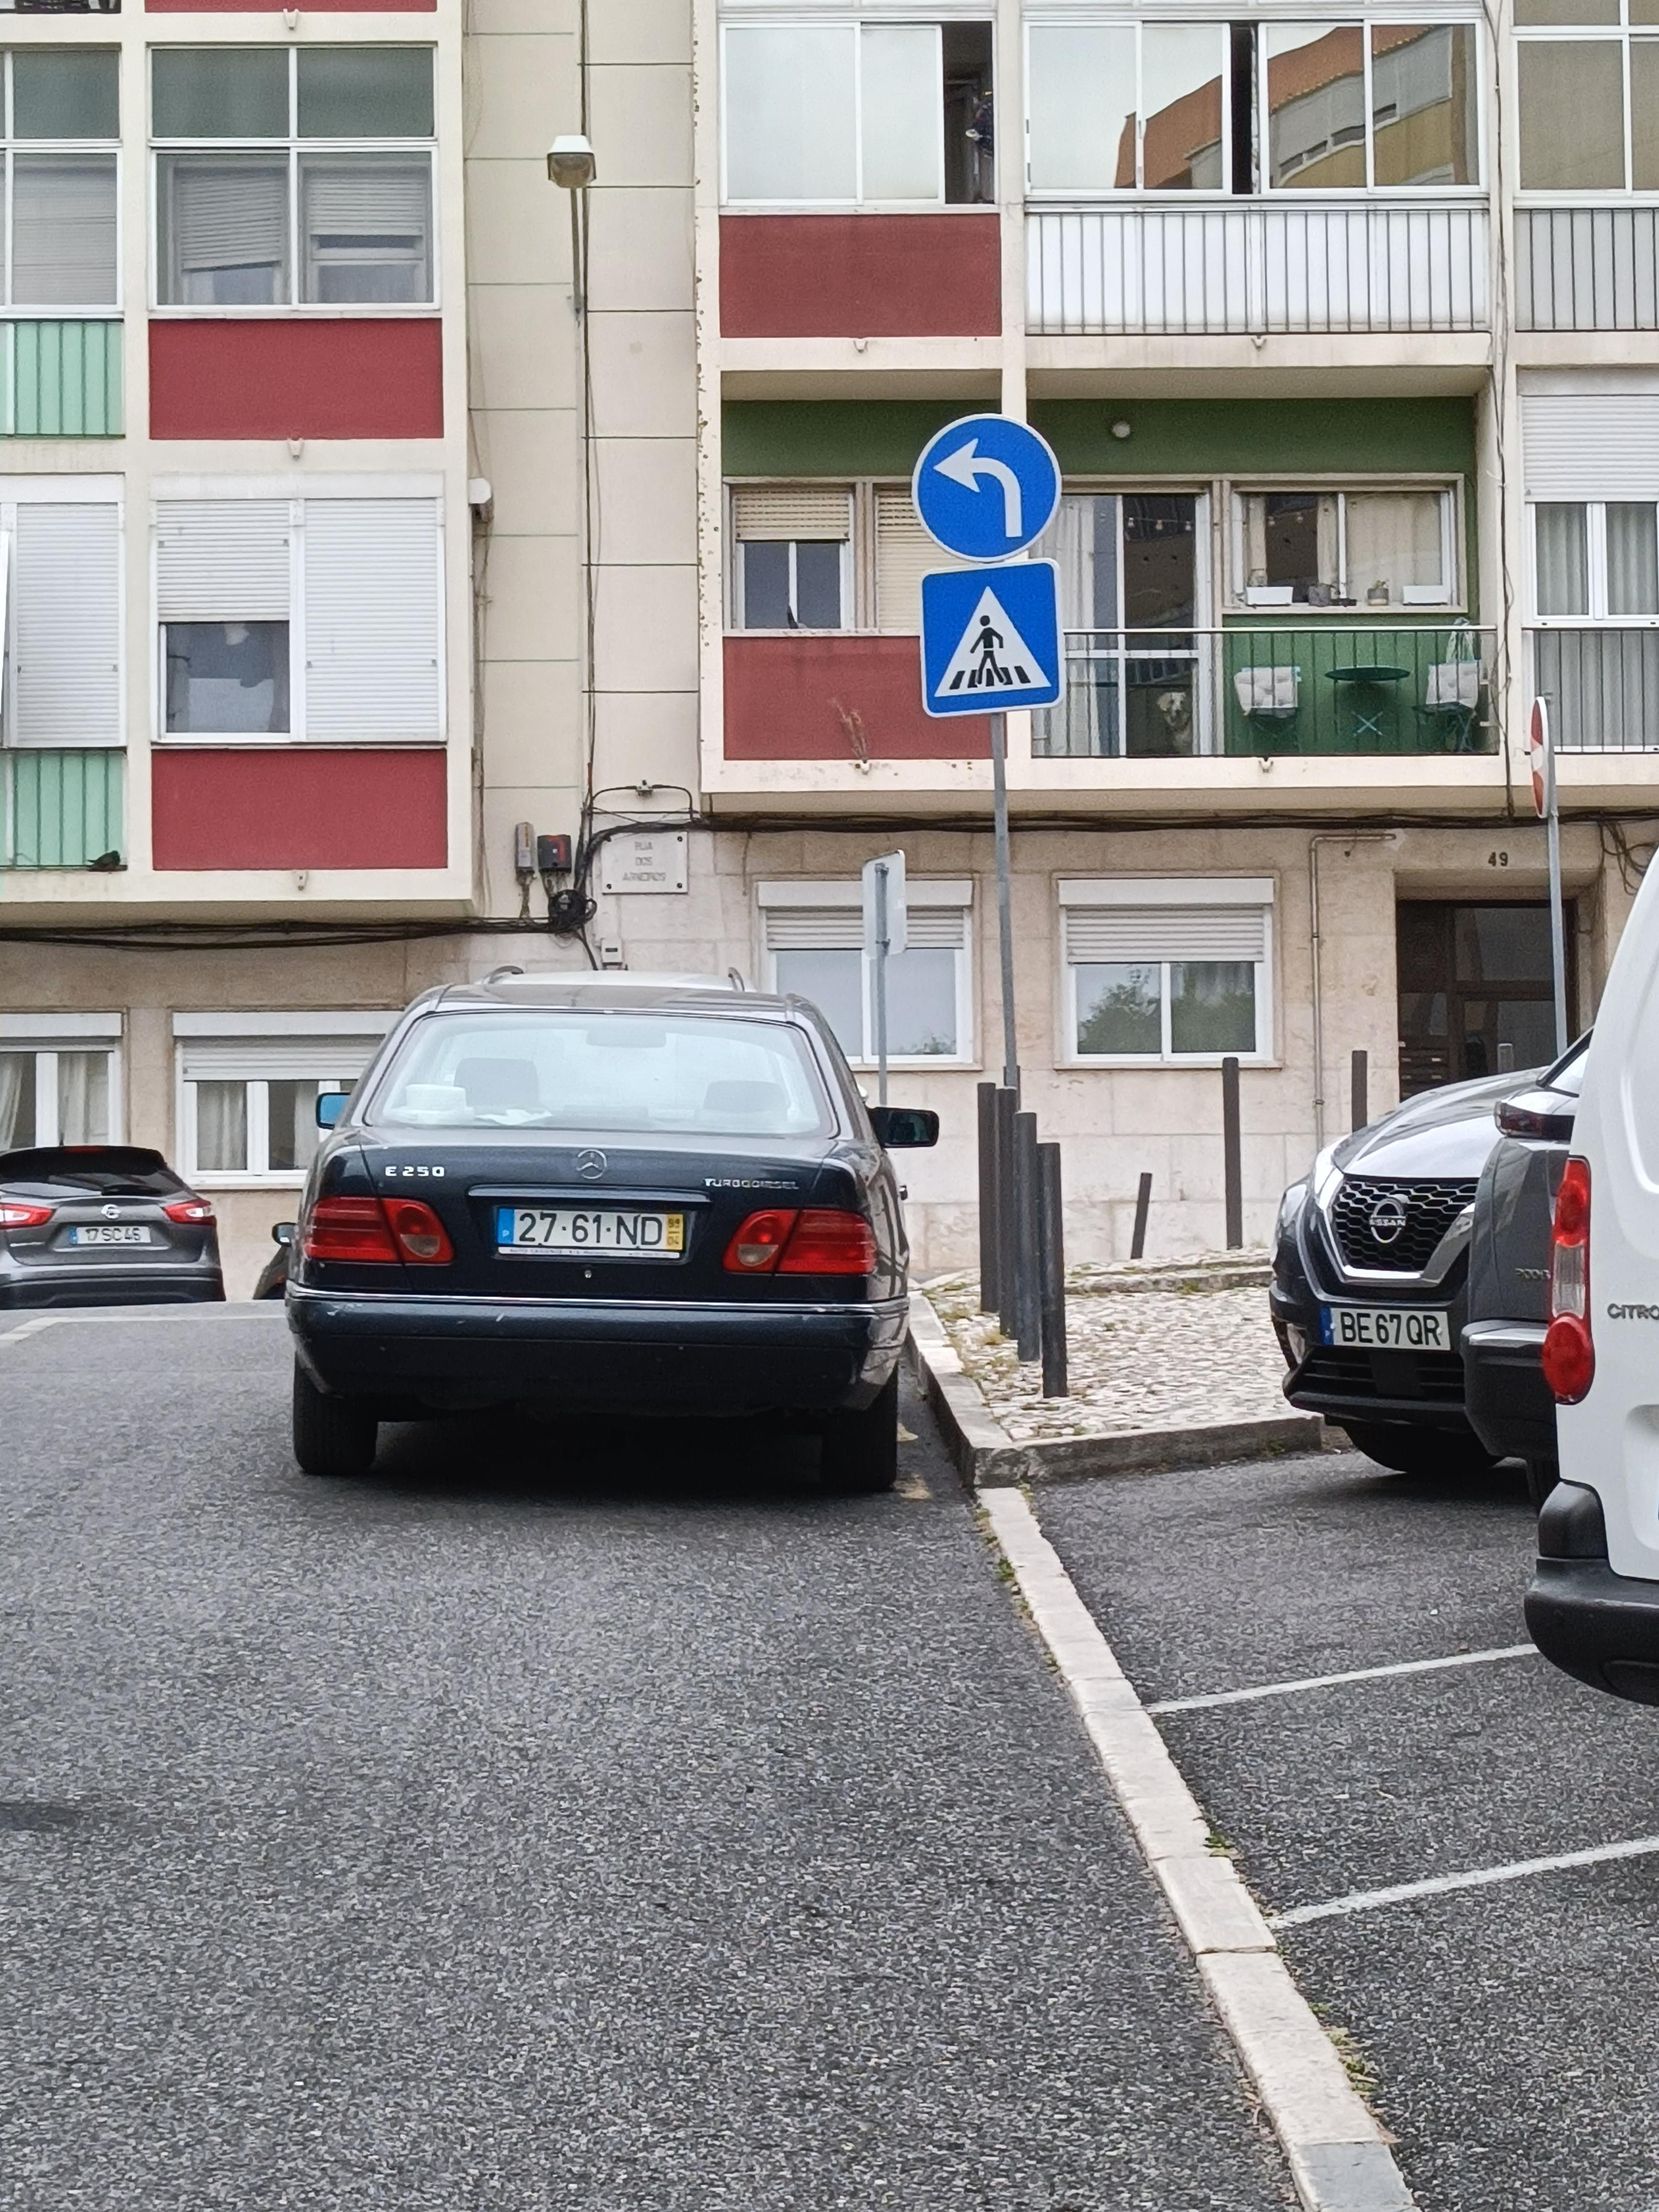Passagem para peoes: (899, 568, 1094, 730)
sentido obrigatorio: (899, 420, 1080, 563)
